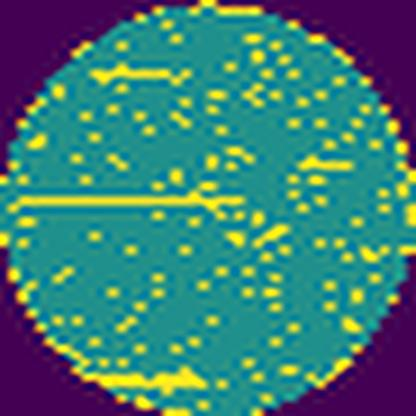Scratch: (6, 179, 244, 223), (80, 362, 214, 398), (89, 57, 190, 92)
